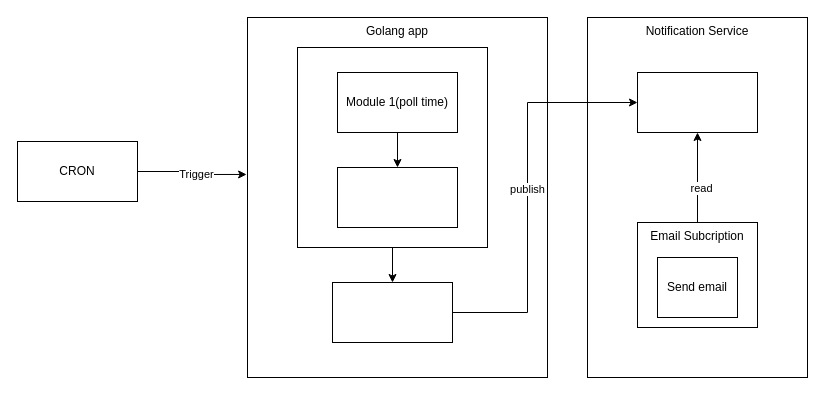
This 825x395 diagram has some shape labels left out. Here are the shapes that lost their labels. From the top down, the centre of each, then its label:
the point at 697,102: Topic
the point at 397,197: Module X
the point at 392,312: Collect alarms
